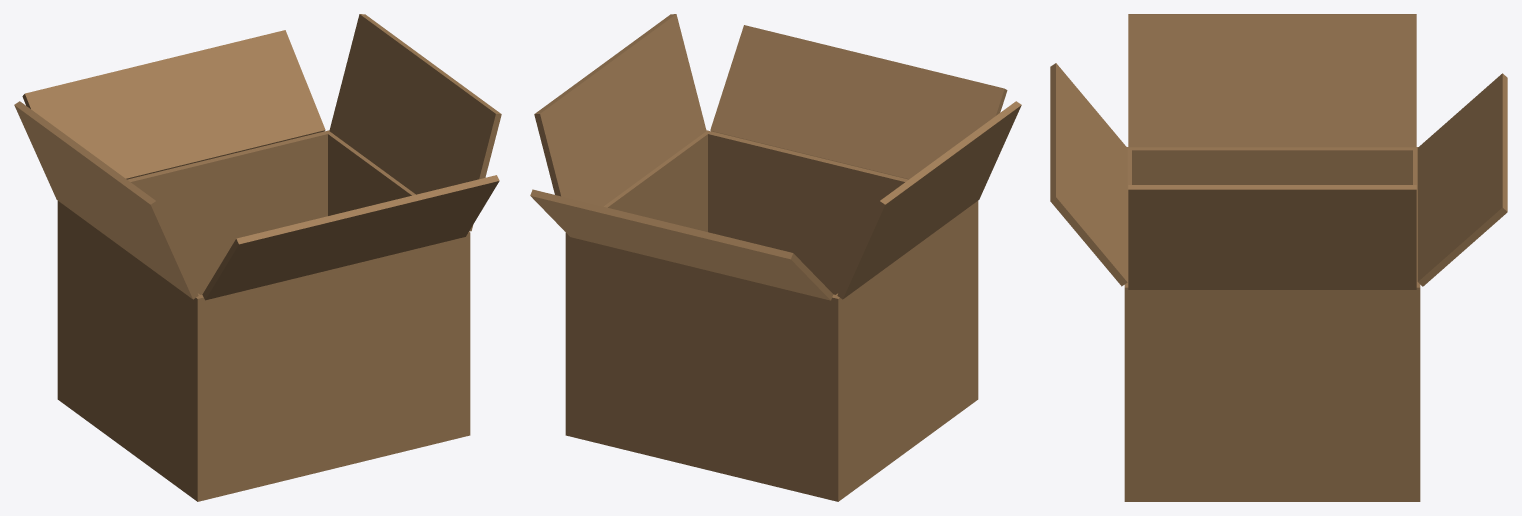
The model's file is box_cardboard_open.glb.
The picture shows the model from 3 angles, left to right: view 1: azimuth 30°, elevation 25°; view 2: azimuth 150°, elevation 25°; view 3: azimuth 270°, elevation 25°; orthographic projection. The views are drawn at different scales.
Visible parts, largest first — view 1: Pared.002, Pared, Solapa.003, Solapa.001, Pared.003, Solapa.002, Solapa, Pared.001, Fondo; view 2: Pared.003, Pared, Solapa.002, Solapa.001, Pared.002, Solapa, Solapa.003, Pared.001, Fondo; view 3: Pared.001, Solapa, Solapa.001, Solapa.003, Solapa.002, Pared, Fondo.
Part boxes in pixels (<box>): Pared.002: <box>201,237,464,493</box>; Pared: <box>57,201,203,501</box>; Solapa.003: <box>22,30,325,179</box>; Solapa.001: <box>329,14,501,231</box>; Pared.003: <box>127,131,327,294</box>; Solapa.002: <box>202,175,499,300</box>; Solapa: <box>14,101,198,299</box>; Pared.001: <box>324,130,470,436</box>; Fondo: <box>57,394,470,501</box>; Pared.003: <box>571,237,834,493</box>; Pared: <box>832,201,978,501</box>; Solapa.002: <box>710,25,1007,179</box>; Solapa.001: <box>534,14,706,206</box>; Pared.002: <box>708,131,908,294</box>; Solapa: <box>837,101,1021,299</box>; Solapa.003: <box>530,189,833,300</box>; Pared.001: <box>565,130,711,436</box>; Fondo: <box>565,393,978,501</box>; Pared.001: <box>1124,284,1420,501</box>; Solapa: <box>1128,14,1416,147</box>; Solapa.001: <box>1128,185,1416,289</box>; Solapa.003: <box>1417,73,1507,286</box>; Solapa.002: <box>1050,63,1127,286</box>; Pared: <box>1127,147,1418,184</box>; Fondo: <box>1124,495,1420,501</box>.
Size of the model in its own units: 0.5792 by 0.4944 by 0.6191.
